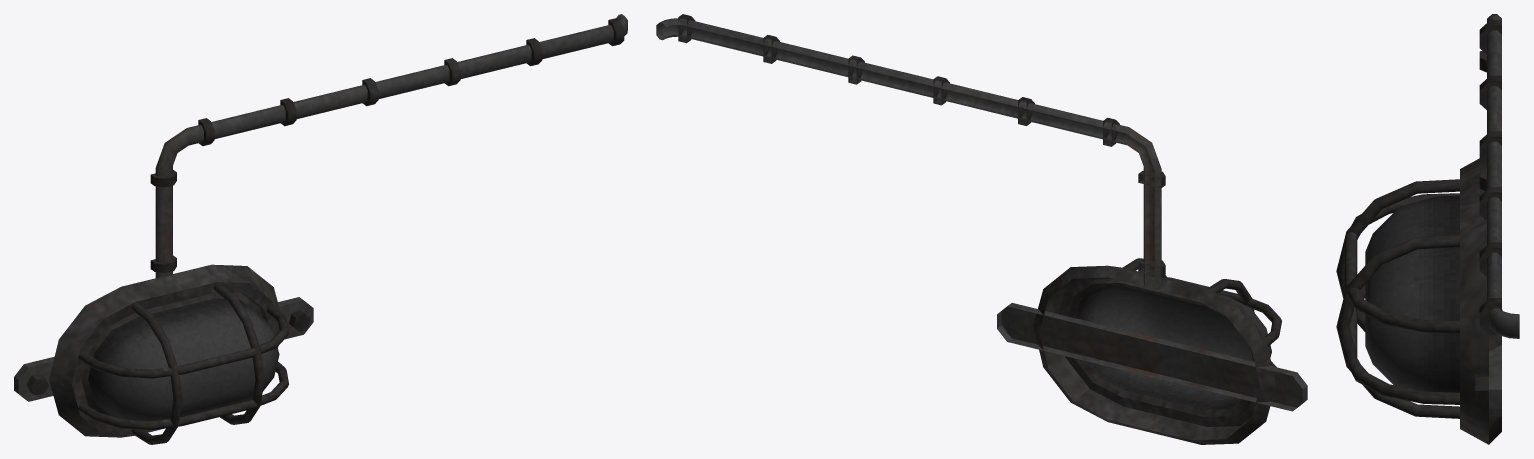
File: lamp_1_off.fbx
3 views of the same model, side by side, from view 1: azimuth 30°, elevation 25°; view 2: azimuth 150°, elevation 25°; view 3: azimuth 270°, elevation 25° (orthographic). The views are drawn at different scales.
Visible parts, largest first — view 1: lamp_1_off; view 2: lamp_1_off; view 3: lamp_1_off.
Boxes of the visible parts, box(x1,y1,x2,y2) form: lamp_1_off: box(14, 14, 627, 444); lamp_1_off: box(656, 14, 1307, 444); lamp_1_off: box(1336, 14, 1519, 444).
Bounding box in the file's own units: 0.7532 × 0.1393 × 0.343.
